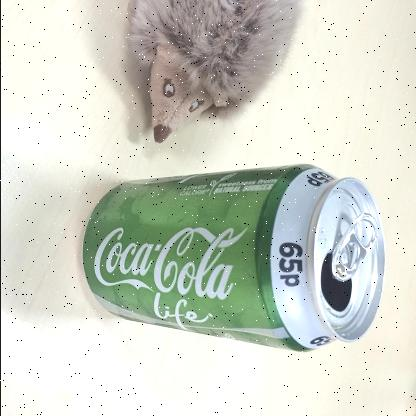Can: (78, 163, 392, 361)
